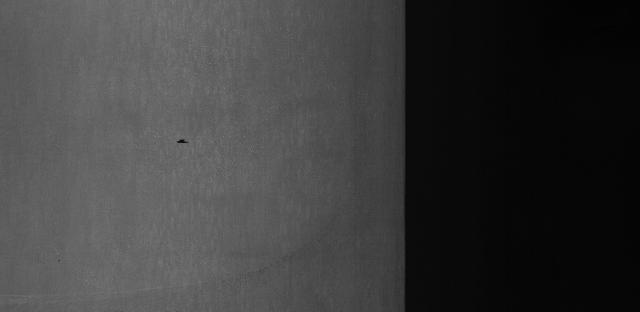inclusion: (168, 133, 191, 150)
